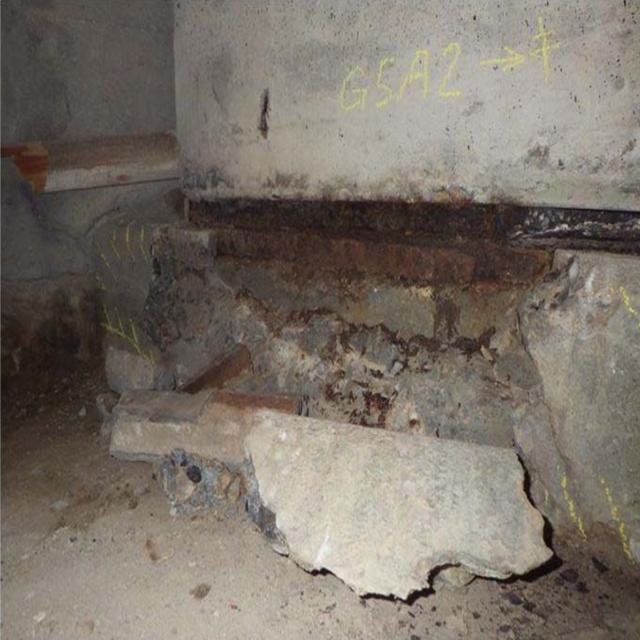corrosion: (175, 166, 576, 347)
